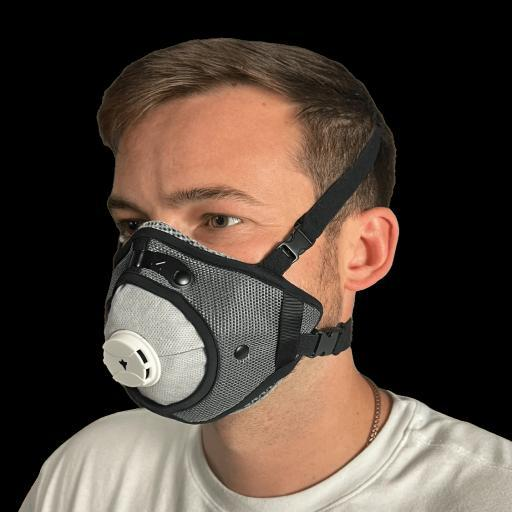mask: (96, 216, 306, 433)
